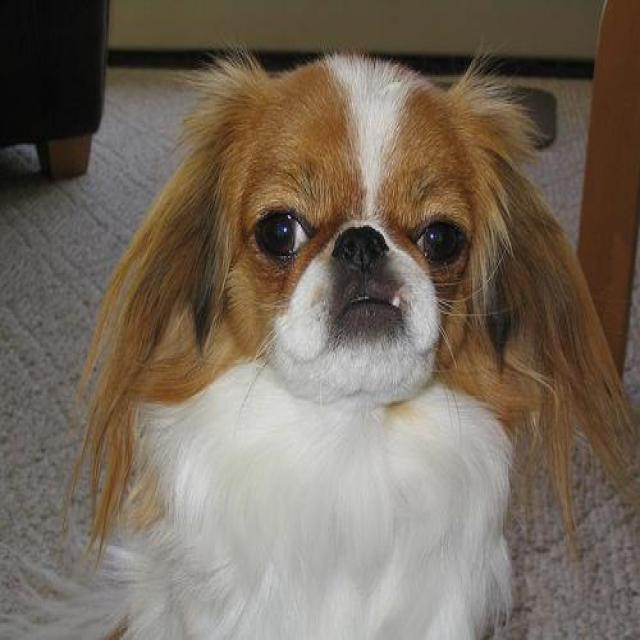husky: (71, 38, 638, 638)
